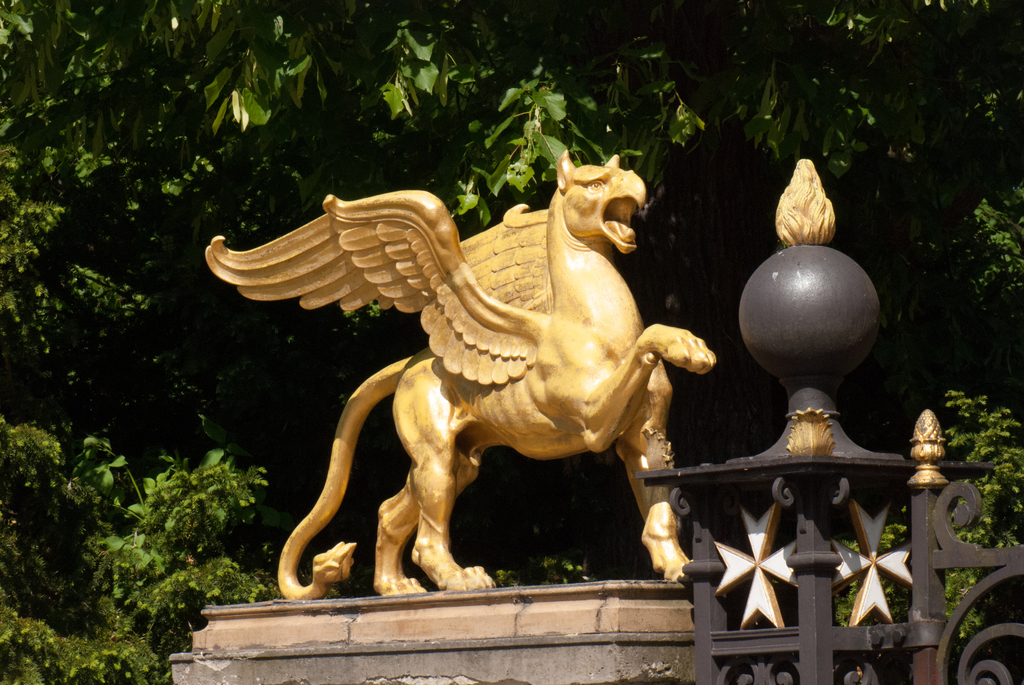Animal: (205, 146, 712, 597)
